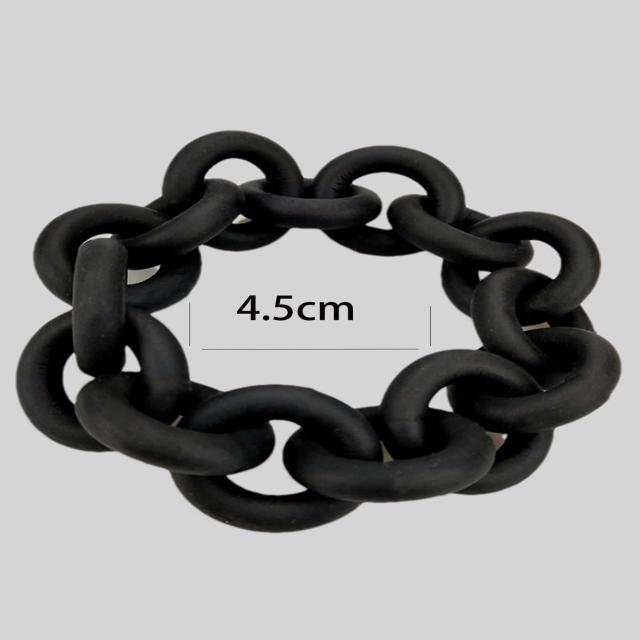bracelet: (3, 96, 640, 567)
